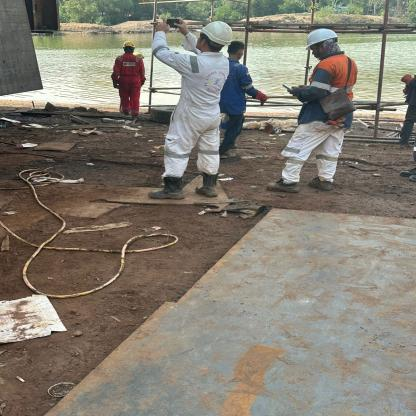bota: (146, 177, 186, 199), (194, 172, 220, 198), (266, 181, 301, 193), (306, 178, 334, 192), (397, 164, 416, 184), (221, 150, 238, 159)
